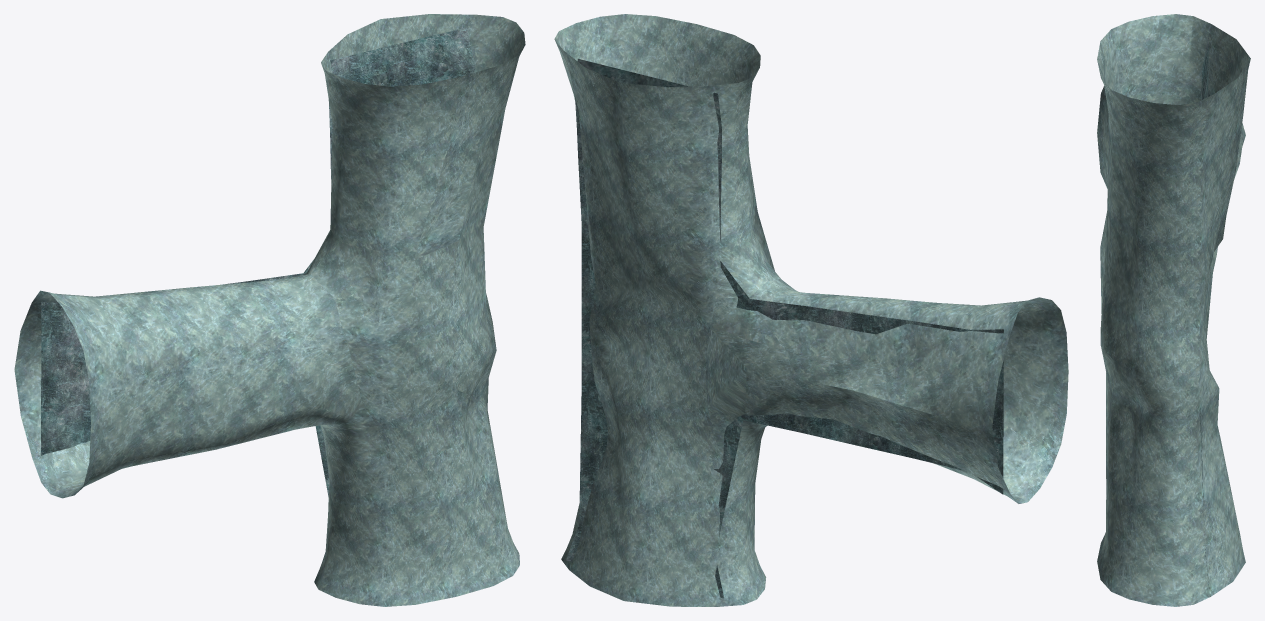
File: rv_mod_tem_tunnel_junction.obj
The picture shows the model from 3 angles, left to right: view 1: azimuth 30°, elevation 25°; view 2: azimuth 150°, elevation 25°; view 3: azimuth 270°, elevation 25°; orthographic projection. The views are drawn at different scales.
Parts seen in each view (by area): view 1: rv_mod_tem_tunnel_junction; view 2: rv_mod_tem_tunnel_junction; view 3: rv_mod_tem_tunnel_junction.
Boxes of the visible parts, x1,y1,x2,y2 form: rv_mod_tem_tunnel_junction: [14, 14, 525, 606]; rv_mod_tem_tunnel_junction: [554, 14, 1068, 606]; rv_mod_tem_tunnel_junction: [1097, 14, 1250, 606].
Size of the model in its own units: 31.08 by 33 by 9.12.
2 materials, 2 textured.
